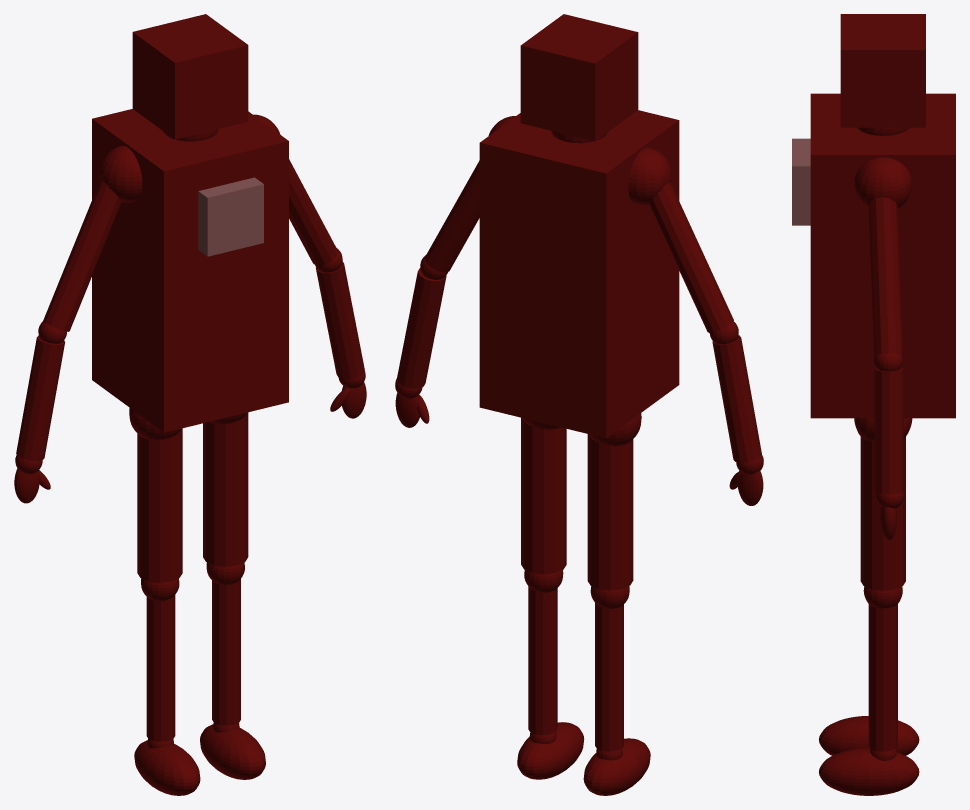
The model's file is player1.dae.
3 renders of one model, left to right at view 1: azimuth 30°, elevation 25°; view 2: azimuth 150°, elevation 25°; view 3: azimuth 270°, elevation 25°, orthographic.
Parts seen in each view (by area): view 1: pCube1, pCube2, pCylinder4_ncl1_1, pCylinder4, pCube3, pCylinder3_ncl1_1, pCylinder5_ncl1_1, pCylinder5, pCylinder2_ncl1_1, pCylinder2, pSphere9_ncl1_1, pSphere9 (+7 smaller); view 2: pCube1, pCube2, pCylinder4_ncl1_1, pCylinder4, pCylinder3_ncl1_1, pCylinder5, pCylinder5_ncl1_1, pCylinder2_ncl1_1, pCylinder2, pCylinder3, pSphere9, pSphere9_ncl1_1 (+5 smaller); view 3: pCube1, pCube2, pCylinder3, pCylinder4, pCylinder5, pCylinder2, pSphere9, pSphere1, pSphere9_ncl1_1, pCube3, pSphere7, pSphere6 (+4 smaller).
Part boxes in pixels (x1,y1,x2,y2): pCube1: (92, 109, 288, 432); pCube2: (132, 14, 248, 139); pCylinder4_ncl1_1: (137, 428, 182, 582); pCylinder4: (203, 412, 248, 566); pCube3: (198, 177, 263, 256); pCylinder3_ncl1_1: (43, 179, 121, 331); pCylinder5_ncl1_1: (146, 595, 175, 741); pCylinder5: (212, 579, 240, 725); pCylinder2_ncl1_1: (16, 335, 64, 460); pCylinder2: (316, 261, 364, 379); pSphere9_ncl1_1: (134, 740, 200, 795); pSphere9: (200, 724, 265, 779); pCube1: (479, 110, 679, 438); pCube2: (520, 14, 638, 141); pCylinder4_ncl1_1: (587, 434, 633, 590); pCylinder4: (521, 417, 566, 574); pCylinder3_ncl1_1: (649, 182, 733, 332); pCylinder5: (528, 586, 557, 735); pCylinder5_ncl1_1: (595, 603, 623, 751); pCylinder2_ncl1_1: (712, 335, 761, 462); pCylinder2: (397, 268, 446, 388); pCylinder3: (425, 160, 479, 272); pSphere9: (517, 722, 584, 779); pSphere9_ncl1_1: (583, 738, 650, 795); pCube1: (810, 93, 955, 418); pCube2: (840, 14, 925, 127); pCylinder3: (868, 197, 903, 354); pCylinder4: (860, 437, 905, 590); pCylinder5: (868, 604, 897, 751); pCylinder2: (874, 367, 903, 494); pSphere9: (819, 748, 919, 795); pSphere1: (854, 157, 912, 208); pSphere9_ncl1_1: (819, 716, 919, 755); pCube3: (792, 138, 810, 225); pSphere7: (863, 586, 902, 608); pSphere6: (854, 418, 912, 441).
Size of the model in its own units: 14.26 by 28.23 by 5.64.
